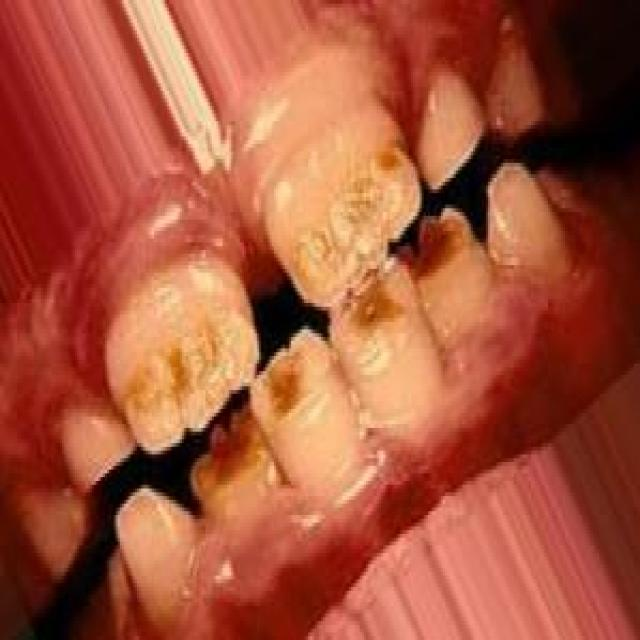caries: (281, 127, 417, 299), (121, 307, 257, 433), (177, 390, 278, 520), (329, 261, 418, 371), (250, 322, 328, 425), (403, 195, 481, 294)
